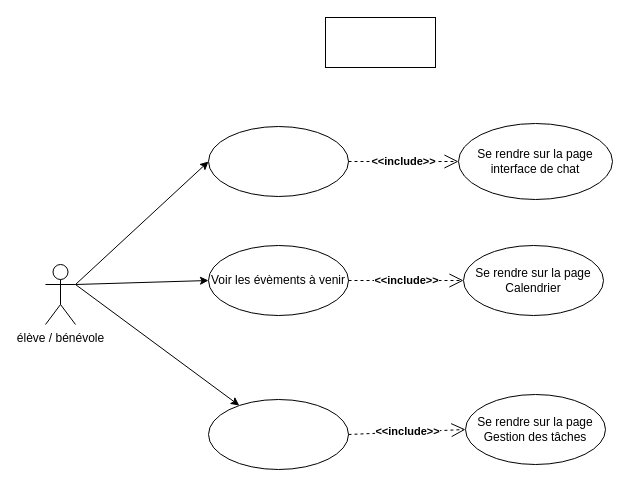
The diagram is 630 pixels wide and 487 high, and some of its shapes have lost their labels. Here are the shapes that lost their labels. From the top down, the centre of each, then its label:
the point at 380,42: Tableau de bord
the point at 278,161: Voir les notifications de message non lus
the point at 278,434: Voir les taches à accomplir
